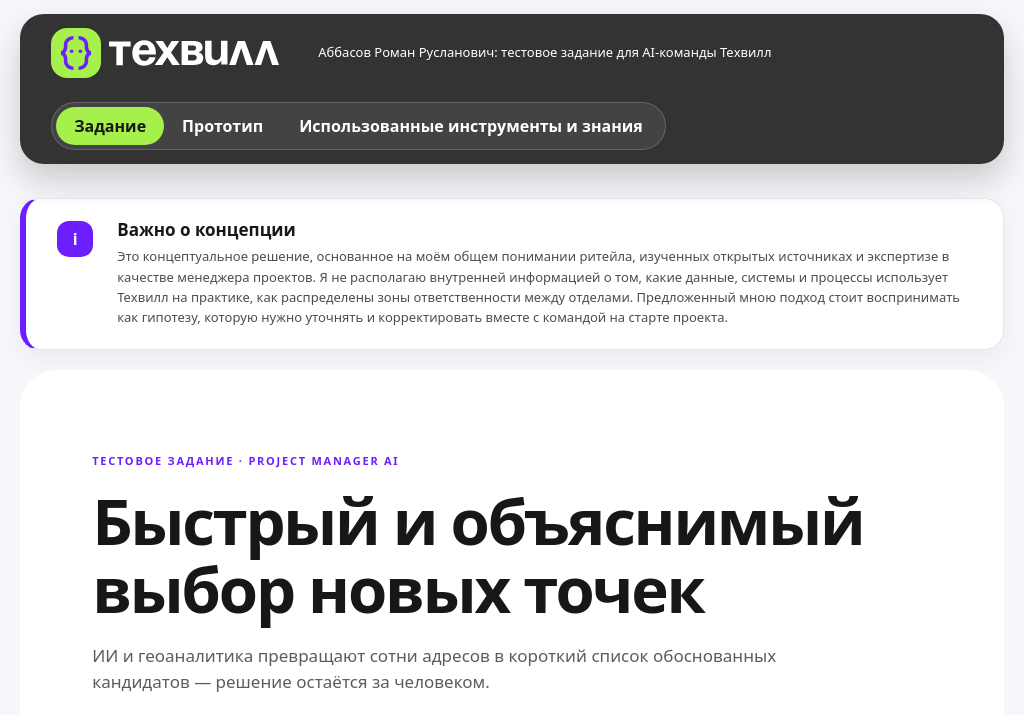
opens the tools and knowledge page from the third tab
The width and height of the screenshot is (1024, 715).
Step 1. Click the tab "Использованные инструменты и знания" → (471, 126), box [281, 107, 661, 145]
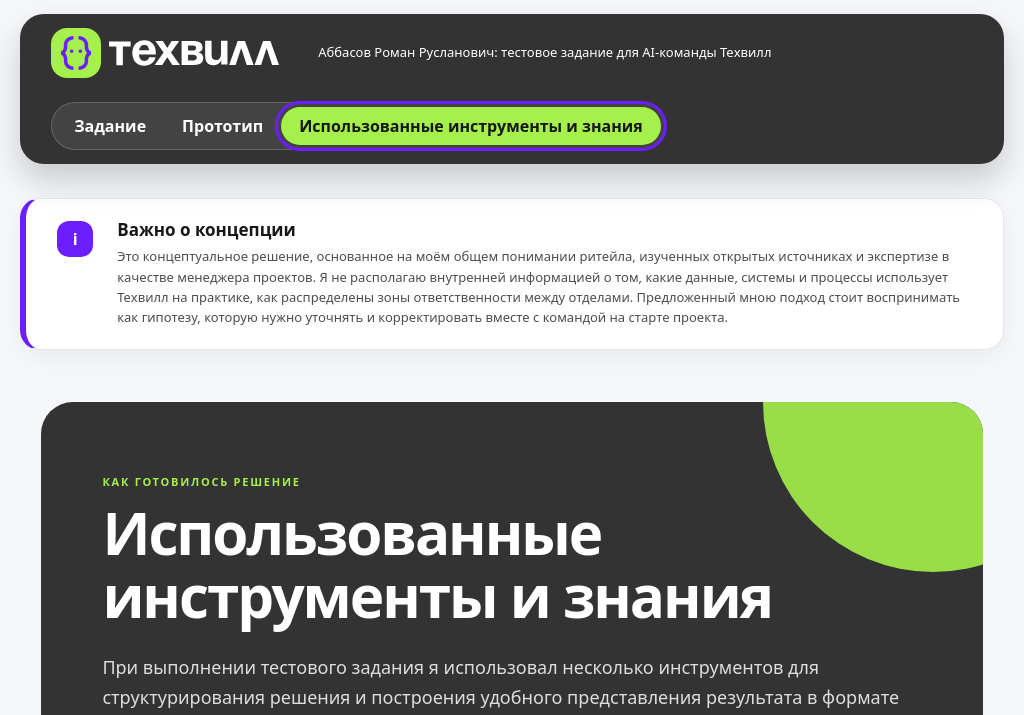
Result: the heading "Использованные инструменты и знания" is shown at [102, 493, 772, 635]
